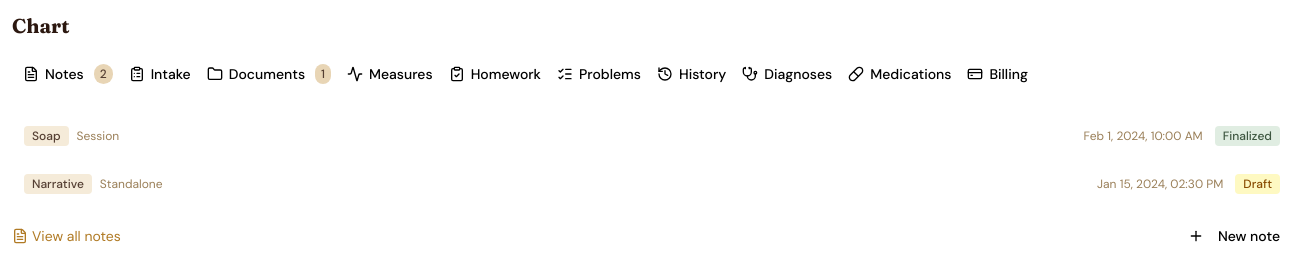
Scenario: PatientChartTabs › switches to the Documents tab and mounts the documents panel
Click the tab "Documents 1" at {"x": 269, "y": 74}, box x1=199 y1=60 x2=339 y2=88
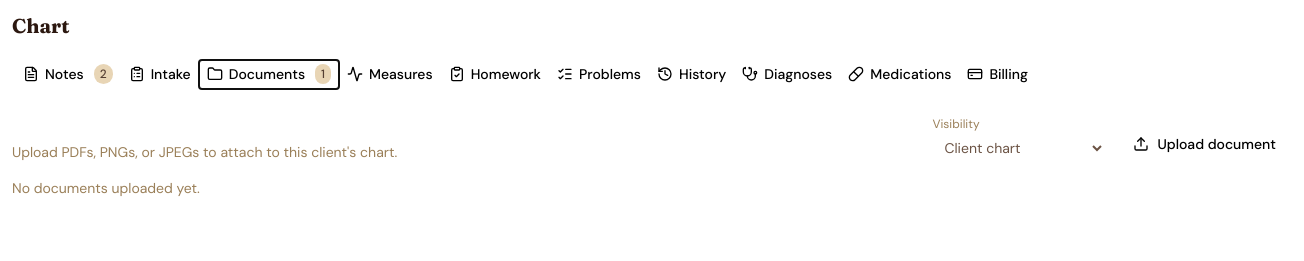
Check: the button "Upload document" is shown, box x1=1117 y1=126 x2=1292 y2=162
Check: the text "No documents uploaded yet." is shown, box x1=12 y1=179 x2=200 y2=197
